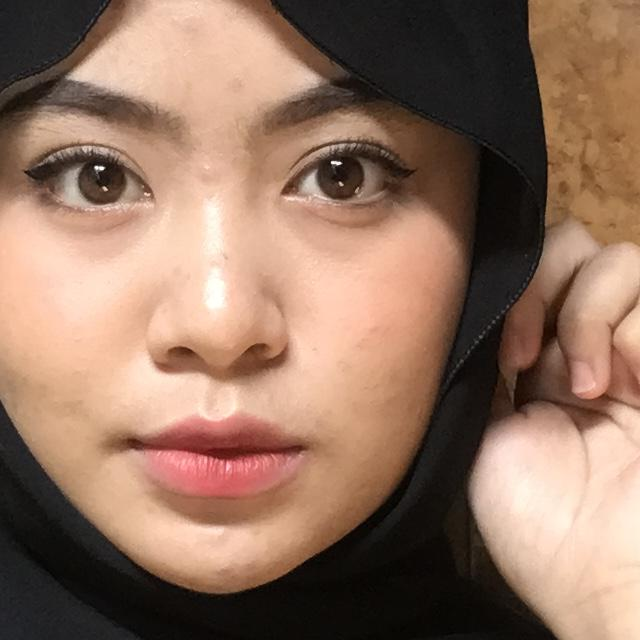ibu: (390, 196, 640, 640)
